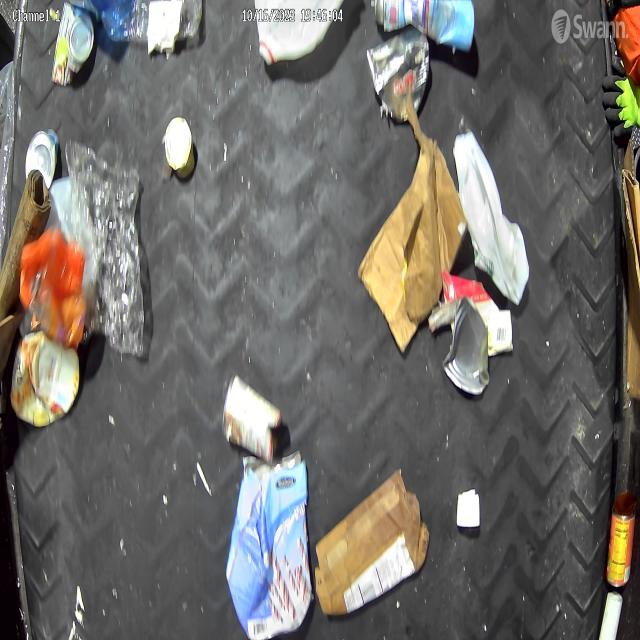can: (365, 23, 430, 126), (220, 372, 283, 467), (371, 0, 475, 53), (442, 296, 489, 399), (51, 1, 96, 88), (24, 126, 60, 189), (164, 114, 197, 180)
milk_jug: (452, 132, 530, 306), (254, 0, 346, 66)
non_white_jug: (224, 450, 312, 640)
plastic_bottle: (100, 0, 204, 45)
